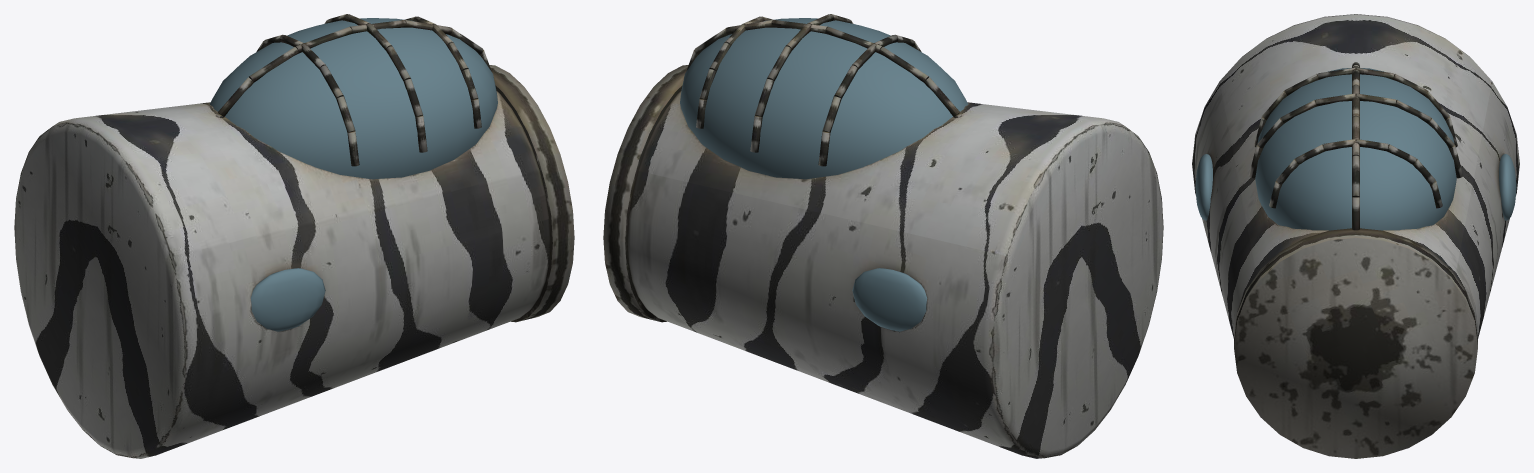
The model's file is turret_kit_tail_cabin_arctic_tiger.glb.
The picture shows the model from 3 angles, left to right: view 1: azimuth 30°, elevation 25°; view 2: azimuth 150°, elevation 25°; view 3: azimuth 270°, elevation 25°; orthographic projection. The views are drawn at different scales.
Visible parts, largest first — view 1: turret_tail_cabin; view 2: turret_tail_cabin; view 3: turret_tail_cabin.
Part boxes in pixels (box(x1,y1,x2,y2)): turret_tail_cabin: box(14, 14, 574, 458); turret_tail_cabin: box(603, 14, 1163, 458); turret_tail_cabin: box(1192, 14, 1519, 458).
Size of the model in its own units: 1.14 by 0.9506 by 0.8335.
2 materials, 1 textured.
